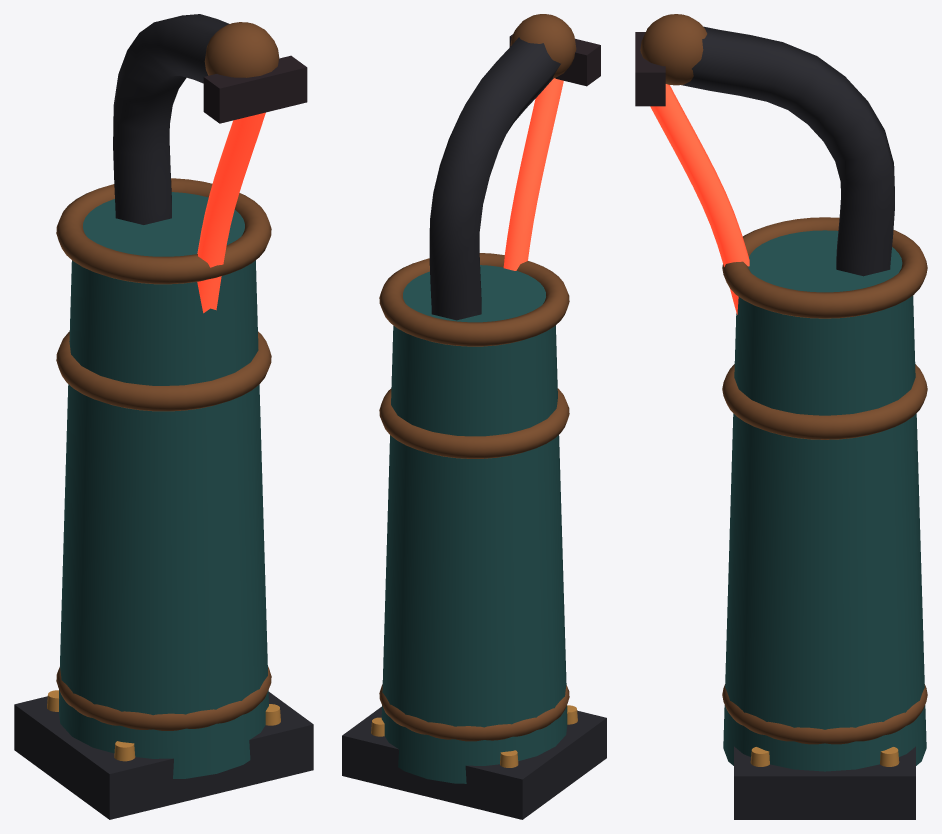
The model's file is mia-pump.glb.
The picture shows the model from 3 angles, left to right: view 1: azimuth 30°, elevation 25°; view 2: azimuth 150°, elevation 25°; view 3: azimuth 270°, elevation 25°; orthographic projection. The views are drawn at different scales.
Parts seen in each view (by area): view 1: Body_teal, Body_iron, Body_rust, Body_red-bulb, Body_leather, Body_brass; view 2: Body_teal, Body_iron, Body_rust, Body_red-bulb, Body_leather, Body_brass; view 3: Body_teal, Body_iron, Body_rust, Body_red-bulb, Body_leather, Body_brass.
Boxes of the visible parts, x1,y1,x2,y2 form: Body_teal: (59,192,268,778); Body_iron: (14,14,313,819); Body_rust: (56,22,279,730); Body_red-bulb: (197,112,265,313); Body_leather: (203,55,307,123); Body_brass: (47,690,280,761); Body_teal: (381,265,567,783); Body_iron: (342,37,606,819); Body_rust: (379,14,576,741); Body_red-bulb: (503,78,563,270); Body_leather: (509,34,600,86); Body_brass: (371,705,577,767); Body_teal: (723,230,926,771); Body_iron: (681,26,915,819); Body_rust: (640,14,927,744); Body_red-bulb: (650,84,749,314); Body_leather: (635,32,665,106); Body_brass: (750,747,899,766).
Bounding box in the file's own units: 0.42 × 1.56 × 0.5465.
